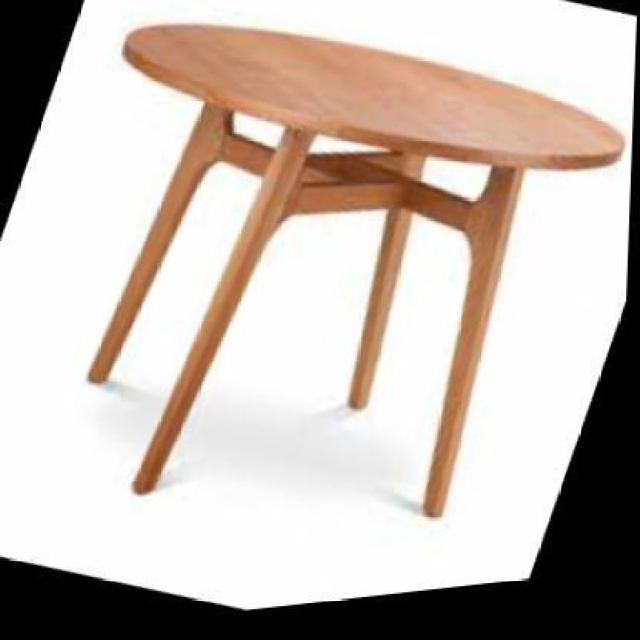tables: (85, 20, 626, 518)
